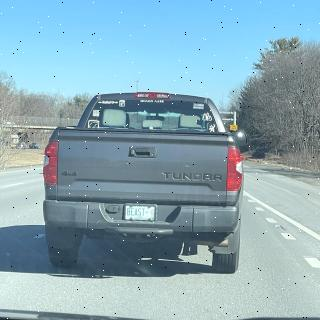license: (124, 204, 159, 223)
